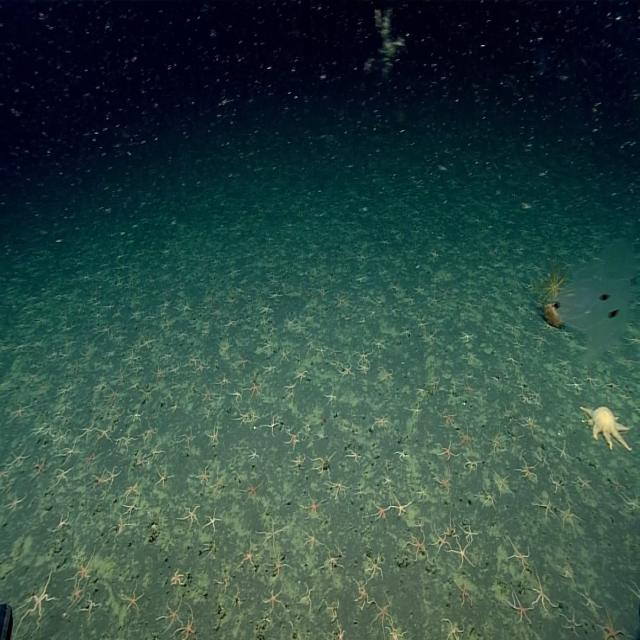brittle-stars: (18, 576, 55, 629), (532, 576, 558, 612), (507, 591, 533, 624), (599, 609, 625, 640), (370, 600, 393, 634), (506, 540, 530, 572), (120, 582, 144, 612), (405, 531, 428, 562), (451, 537, 473, 569), (576, 588, 602, 615), (257, 518, 281, 547), (177, 606, 197, 640), (159, 598, 183, 626), (110, 512, 132, 540), (558, 503, 580, 531), (240, 476, 261, 505), (5, 490, 28, 516), (73, 554, 95, 581), (238, 539, 256, 572), (430, 525, 452, 552), (302, 492, 324, 519), (67, 579, 88, 607), (514, 458, 538, 482), (7, 444, 30, 469), (435, 437, 458, 462), (178, 503, 200, 529), (353, 576, 372, 606), (261, 586, 284, 610), (534, 493, 554, 520), (441, 617, 463, 640), (310, 456, 333, 478), (194, 462, 212, 489), (9, 398, 30, 421), (154, 462, 172, 488), (434, 468, 452, 494), (322, 550, 343, 572), (390, 495, 411, 517), (58, 439, 78, 462), (477, 484, 496, 508), (269, 552, 287, 577), (555, 438, 572, 464), (366, 553, 382, 580), (562, 610, 580, 634), (492, 471, 510, 495), (521, 412, 540, 434), (205, 507, 221, 532), (370, 500, 390, 520), (122, 495, 140, 517), (116, 429, 134, 451), (178, 427, 195, 450), (459, 426, 474, 452), (619, 492, 640, 510), (487, 429, 502, 454), (211, 473, 227, 496), (330, 480, 349, 499), (456, 581, 471, 605), (303, 528, 319, 550), (532, 330, 551, 348), (53, 466, 71, 484), (385, 623, 404, 640), (461, 524, 477, 544), (284, 429, 300, 449), (105, 466, 120, 487), (205, 424, 220, 445), (245, 380, 262, 398), (53, 510, 69, 529), (81, 422, 96, 442), (142, 422, 157, 442), (325, 383, 337, 408), (33, 457, 47, 478), (233, 406, 250, 423), (200, 386, 217, 403), (264, 416, 280, 434), (346, 447, 362, 465), (338, 360, 353, 379), (96, 425, 112, 442), (464, 455, 481, 471), (357, 346, 372, 364), (235, 354, 250, 372), (550, 473, 564, 492), (612, 476, 625, 496), (290, 454, 306, 470), (406, 402, 422, 418), (140, 333, 155, 350), (584, 371, 599, 388), (56, 426, 70, 444), (574, 476, 592, 490), (372, 414, 390, 428), (279, 344, 291, 364), (459, 330, 476, 344), (171, 568, 184, 586), (231, 386, 244, 404), (379, 367, 394, 382), (294, 368, 308, 384), (442, 412, 458, 426), (180, 299, 193, 316), (105, 387, 119, 402), (262, 360, 276, 375), (225, 315, 239, 330), (327, 344, 342, 358), (568, 376, 583, 390), (93, 470, 106, 486), (335, 620, 345, 640), (268, 290, 282, 304), (248, 447, 261, 462), (284, 379, 297, 394), (356, 361, 371, 374), (154, 364, 166, 380), (260, 302, 273, 316), (395, 447, 408, 460), (188, 354, 200, 368), (261, 339, 273, 353), (130, 407, 141, 422), (248, 409, 258, 425), (159, 298, 172, 310), (136, 455, 148, 467), (520, 391, 530, 405), (415, 519, 425, 532), (336, 296, 346, 308)
